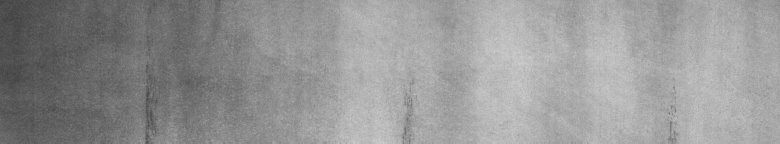ka: (136, 64, 200, 136)
